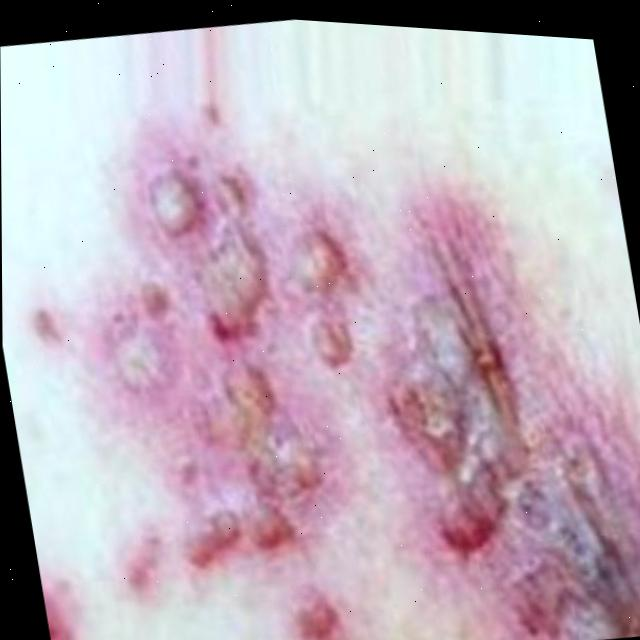Shingles: (66, 78, 640, 640), (40, 576, 61, 640)
